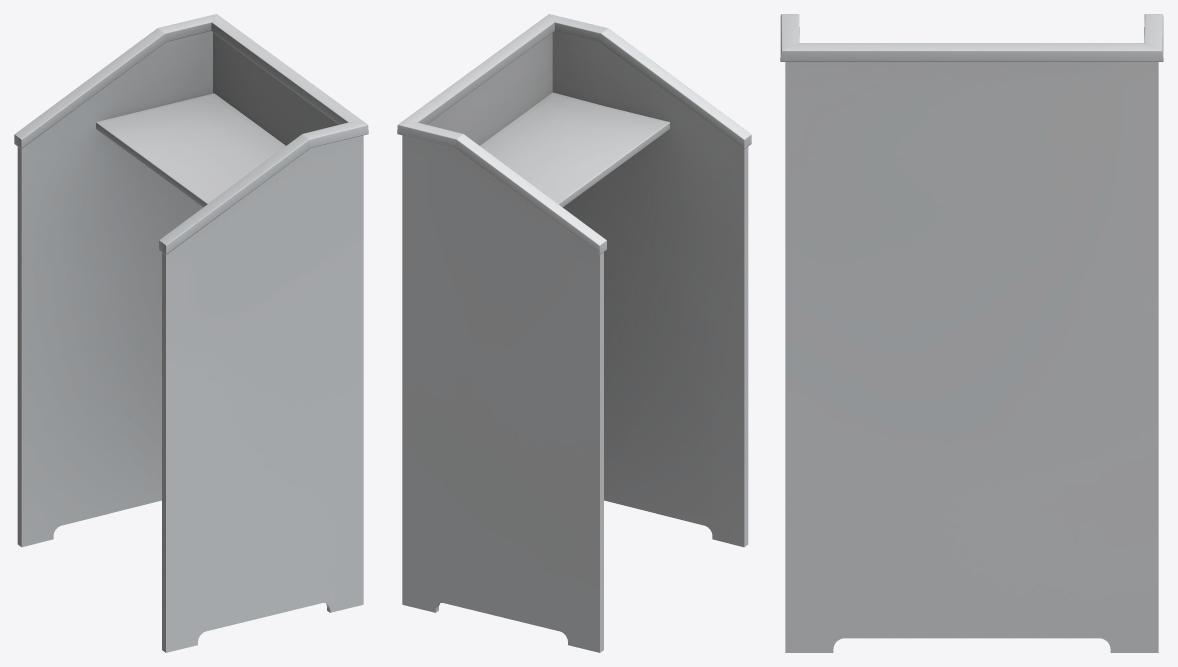
The model's file is vocale.glb.
3 views of the same model, side by side, from view 1: azimuth 30°, elevation 25°; view 2: azimuth 150°, elevation 25°; view 3: azimuth 270°, elevation 25° (orthographic). The views are drawn at different scales.
Parts seen in each view (by area): view 1: vocale-white; view 2: vocale-white; view 3: vocale-white.
Boxes of the visible parts, left/top/right/bottom form: vocale-white: left=14, top=14, right=368, bottom=652; vocale-white: left=397, top=14, right=751, bottom=652; vocale-white: left=780, top=14, right=1163, bottom=652.
Bounding box in the file's own units: 0.5117 × 1.16 × 0.6671.
Materials: 1 (1 with a texture image).
